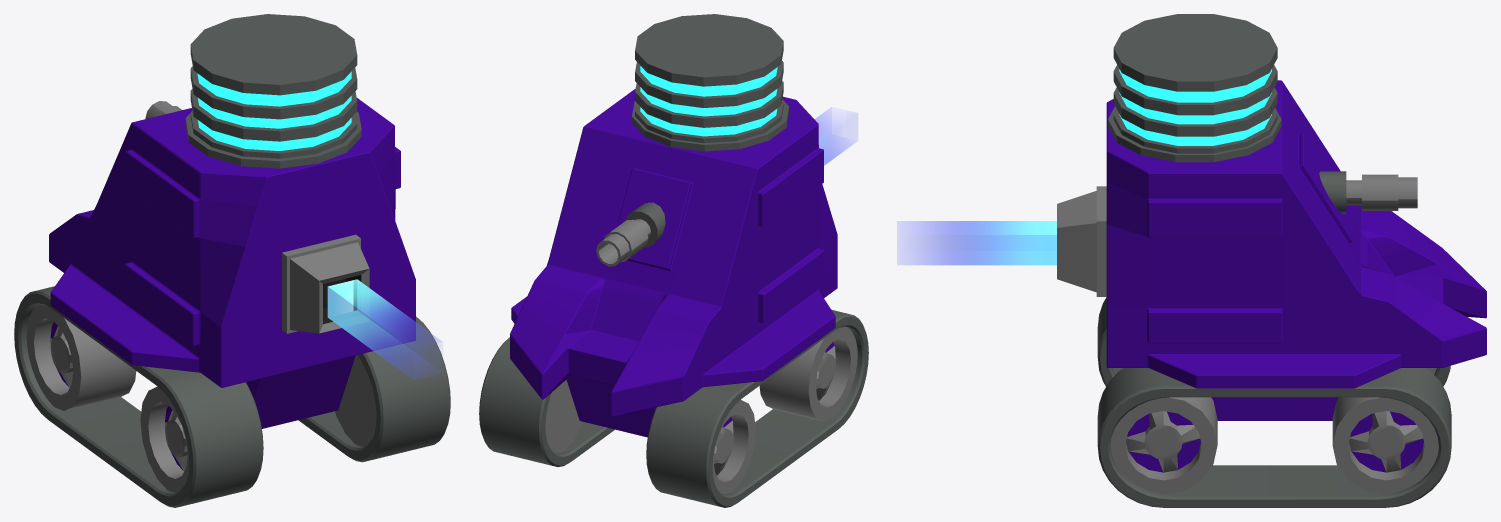
The model's file is tank-04.glb.
3 views of the same model, side by side, from view 1: azimuth 30°, elevation 25°; view 2: azimuth 150°, elevation 25°; view 3: azimuth 270°, elevation 25° (orthographic). The views are drawn at different scales.
Visible parts, largest first — view 1: Body, Weapon-EMP, Tracks-R, Tracks-L, Wheel-FL, boost-fire, Cube, Wheel-BL, Wheel-FR, Cylinder.002; view 2: Body, Weapon-EMP, Tracks-R, Tracks-L, Wheel-BL, Wheel-FL, Wheel-BR, Weapon-Cannon, Cylinder.002, boost-fire, Cylinder.001; view 3: Body, Weapon-EMP, Tracks-L, Wheel-FR, Wheel-BR, boost-fire, Cube, Weapon-Cannon, Cylinder.002, Tracks-R, Cylinder.001.
Boxes of the visible parts, x1=… form: Body: x1=49, y1=98, x2=415, y2=428; Weapon-EMP: x1=190, y1=14, x2=357, y2=158; Tracks-R: x1=14, y1=286, x2=263, y2=507; Tracks-L: x1=298, y1=316, x2=450, y2=462; Wheel-FL: x1=26, y1=305, x2=136, y2=410; boost-fire: x1=327, y1=279, x2=441, y2=379; Cube: x1=282, y1=234, x2=369, y2=333; Wheel-BL: x1=140, y1=386, x2=189, y2=492; Wheel-FR: x1=335, y1=355, x2=376, y2=446; Cylinder.002: x1=185, y1=111, x2=361, y2=168; Body: x1=510, y1=89, x2=837, y2=437; Weapon-EMP: x1=635, y1=14, x2=783, y2=143; Tracks-R: x1=646, y1=309, x2=868, y2=507; Tracks-L: x1=479, y1=337, x2=614, y2=466; Wheel-BL: x1=759, y1=326, x2=857, y2=421; Wheel-FL: x1=712, y1=400, x2=755, y2=494; Wheel-BR: x1=545, y1=379, x2=581, y2=453; Weapon-Cannon: x1=596, y1=219, x2=650, y2=266; Cylinder.002: x1=632, y1=99, x2=788, y2=151; boost-fire: x1=815, y1=107, x2=857, y2=165; Cylinder.001: x1=625, y1=202, x2=665, y2=247; Body: x1=1106, y1=80, x2=1486, y2=420; Weapon-EMP: x1=1113, y1=14, x2=1277, y2=153; Tracks-L: x1=1097, y1=368, x2=1451, y2=507; Wheel-FR: x1=1110, y1=397, x2=1217, y2=494; Wheel-BR: x1=1332, y1=397, x2=1438, y2=494; boost-fire: x1=897, y1=221, x2=1056, y2=265; Cube: x1=1057, y1=186, x2=1106, y2=296; Weapon-Cannon: x1=1346, y1=174, x2=1417, y2=210; Cylinder.002: x1=1108, y1=106, x2=1281, y2=162; Tracks-R: x1=1097, y1=297, x2=1450, y2=386; Cylinder.001: x1=1319, y1=171, x2=1346, y2=213.
Size of the model in its own units: 2.89 by 4.02 by 5.37.
6 materials, 1 textured.
